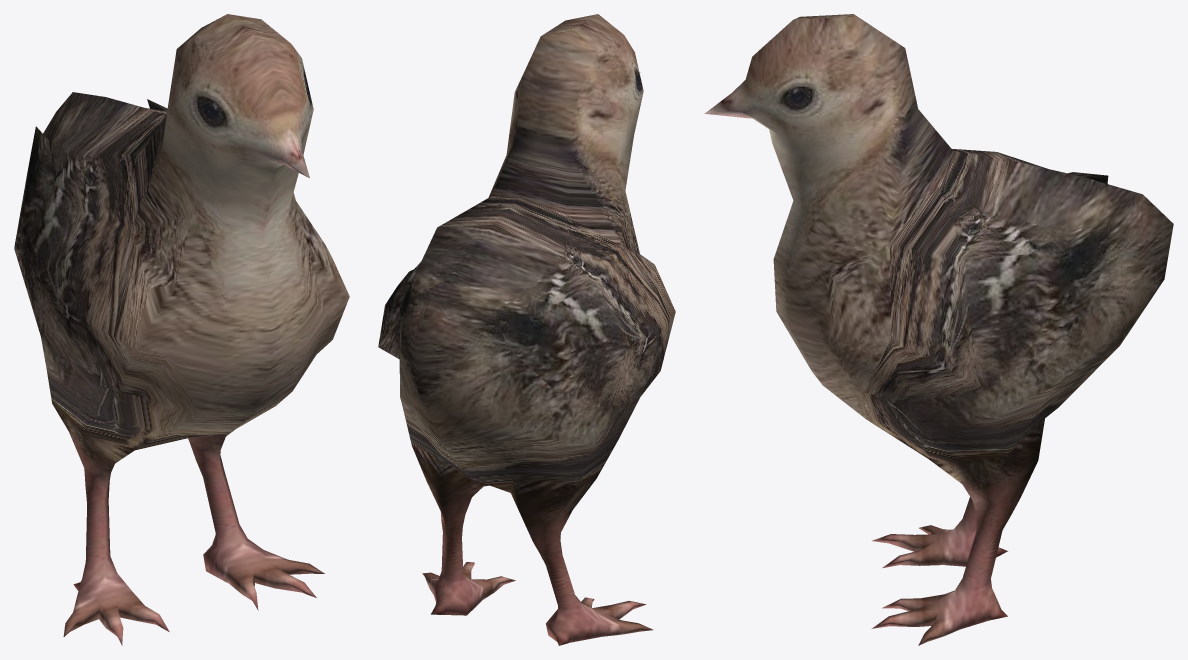
File: Kurka bolasi.fbx
The picture shows the model from 3 angles, left to right: view 1: azimuth 30°, elevation 25°; view 2: azimuth 150°, elevation 25°; view 3: azimuth 270°, elevation 25°; orthographic projection. The views are drawn at different scales.
Parts seen in each view (by area): view 1: D0507001B15; view 2: D0507001B15; view 3: D0507001B15.
Boxes of the visible parts, x1,y1,x2,y2 form: D0507001B15: [14, 14, 349, 645]; D0507001B15: [378, 14, 675, 645]; D0507001B15: [704, 14, 1173, 645].
Size of the model in its own units: 380 by 857 by 638.
Materials: 1 (1 with a texture image).
